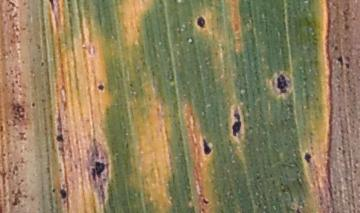tarspot: (91, 161, 105, 181), (277, 73, 289, 95), (233, 109, 242, 137), (202, 136, 211, 156), (196, 15, 205, 28), (303, 152, 312, 165), (59, 189, 67, 199), (338, 55, 344, 67), (95, 84, 105, 91), (49, 1, 56, 10), (202, 198, 211, 205), (55, 134, 64, 141), (333, 43, 339, 52), (39, 59, 45, 68), (345, 62, 350, 70), (337, 145, 342, 152), (31, 102, 36, 108), (53, 188, 56, 193)
